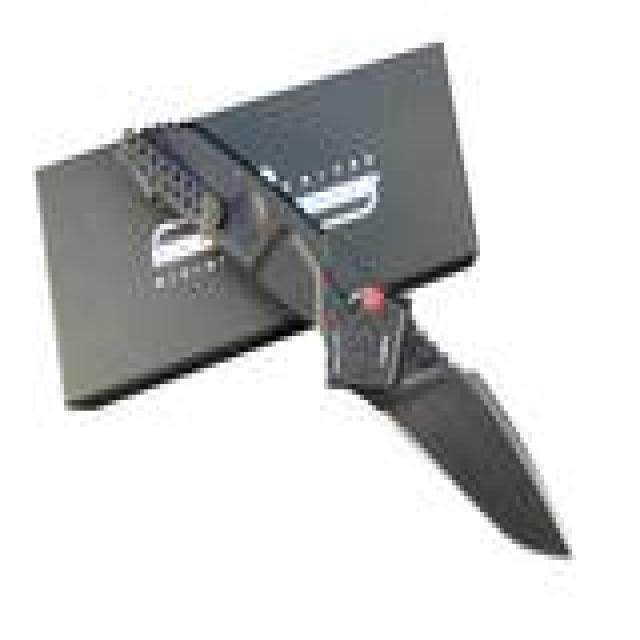Knife: (101, 96, 573, 560)
